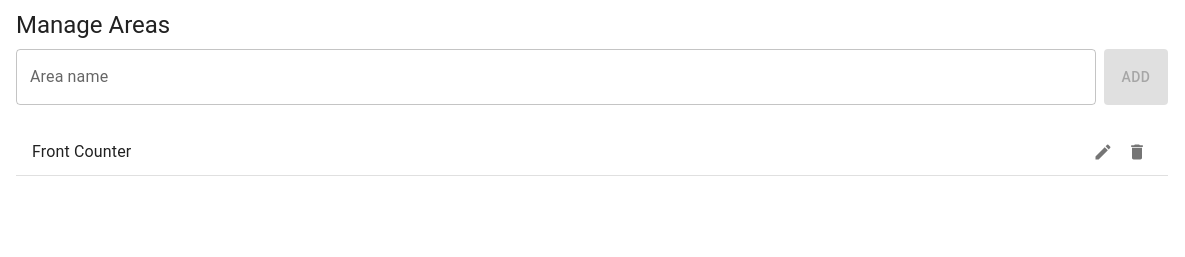
Test case: ManageAreasScreen deletion safeguards › prevents deleting an area that is used by pick lists
Click the button named "delete front counter".
click(1137, 152)  # box [1122,137,1152,167]
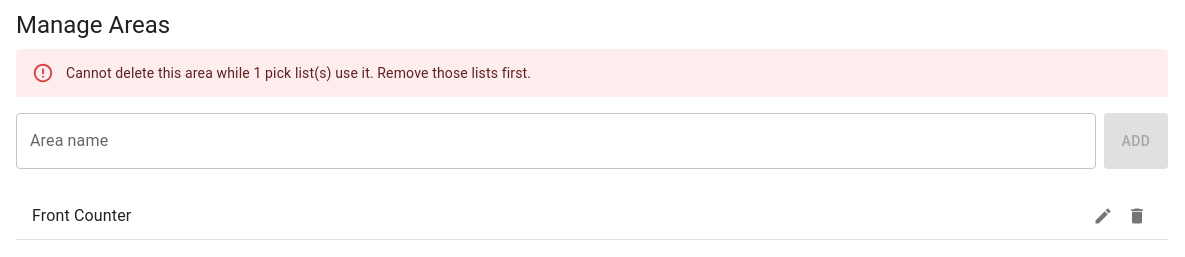
expect the text "Cannot delete this area while 1 pick list(s) use it" is shown: met, box [66,65,531,81]
